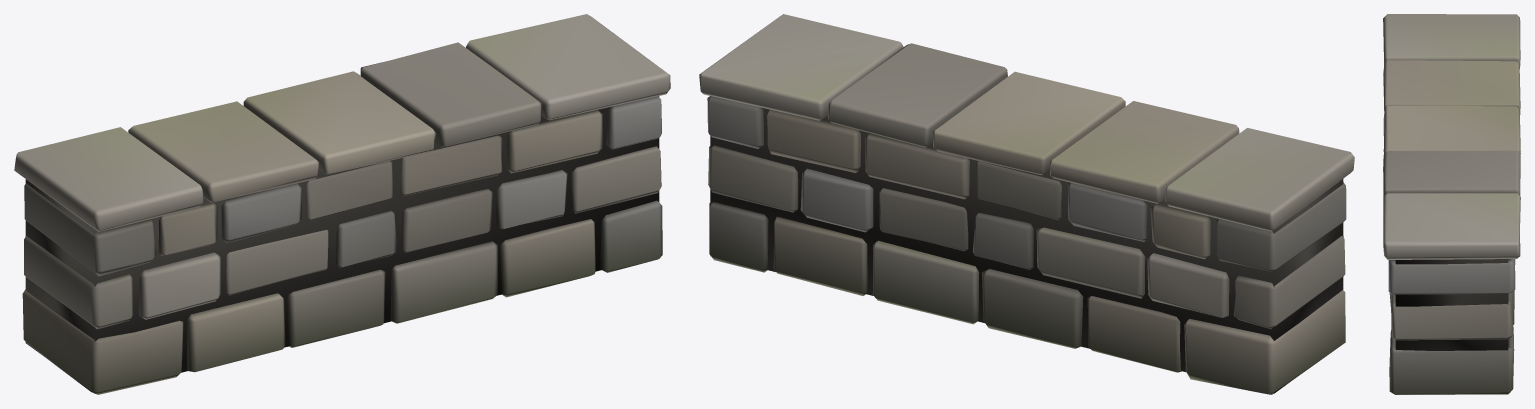
The model's file is stonewall.glb.
The picture shows the model from 3 angles, left to right: view 1: azimuth 30°, elevation 25°; view 2: azimuth 150°, elevation 25°; view 3: azimuth 270°, elevation 25°; orthographic projection. The views are drawn at different scales.
Parts seen in each view (by area): view 1: Coursed stone; view 2: Coursed stone; view 3: Coursed stone.
Boxes of the visible parts, x1,y1,x2,y2 form: Coursed stone: [14, 14, 670, 394]; Coursed stone: [699, 14, 1354, 394]; Coursed stone: [1383, 14, 1520, 394].
Bounding box in the file's own units: 6.08 × 1.97 × 1.54.
